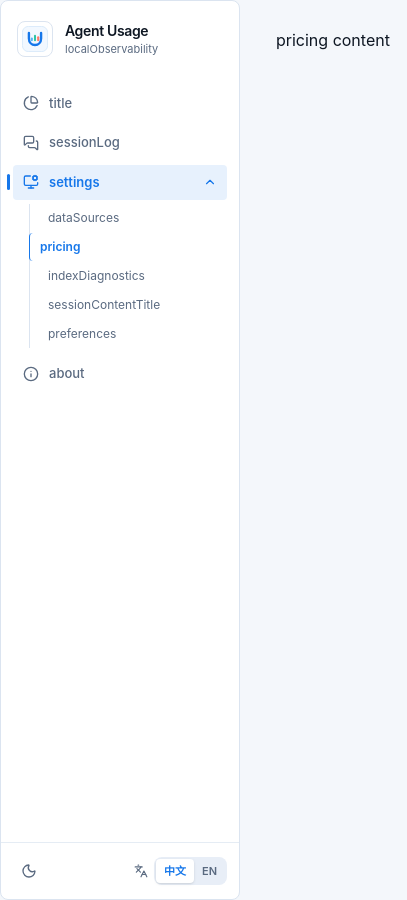
Scenario: Layout › expands system destinations in the primary rail on system routes
This screenshot has width=407, height=900.
Click the button "settings": [120, 182] box 13,164 -> 227,200
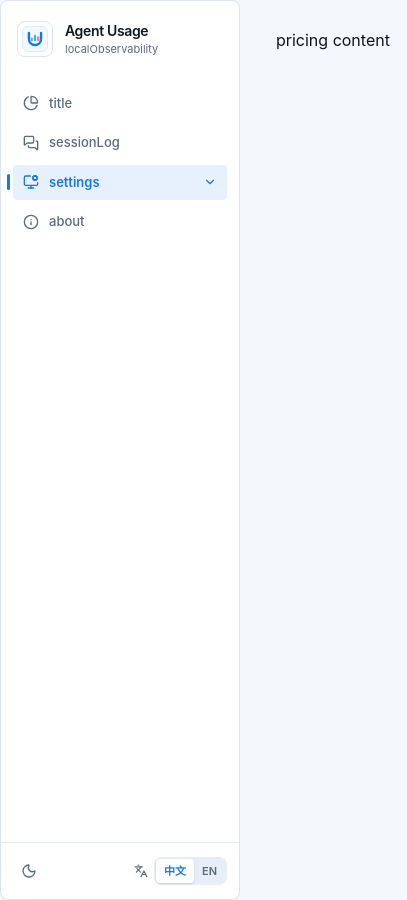
Check: the button "settings" is collapsed, box 13,164 -> 227,200
